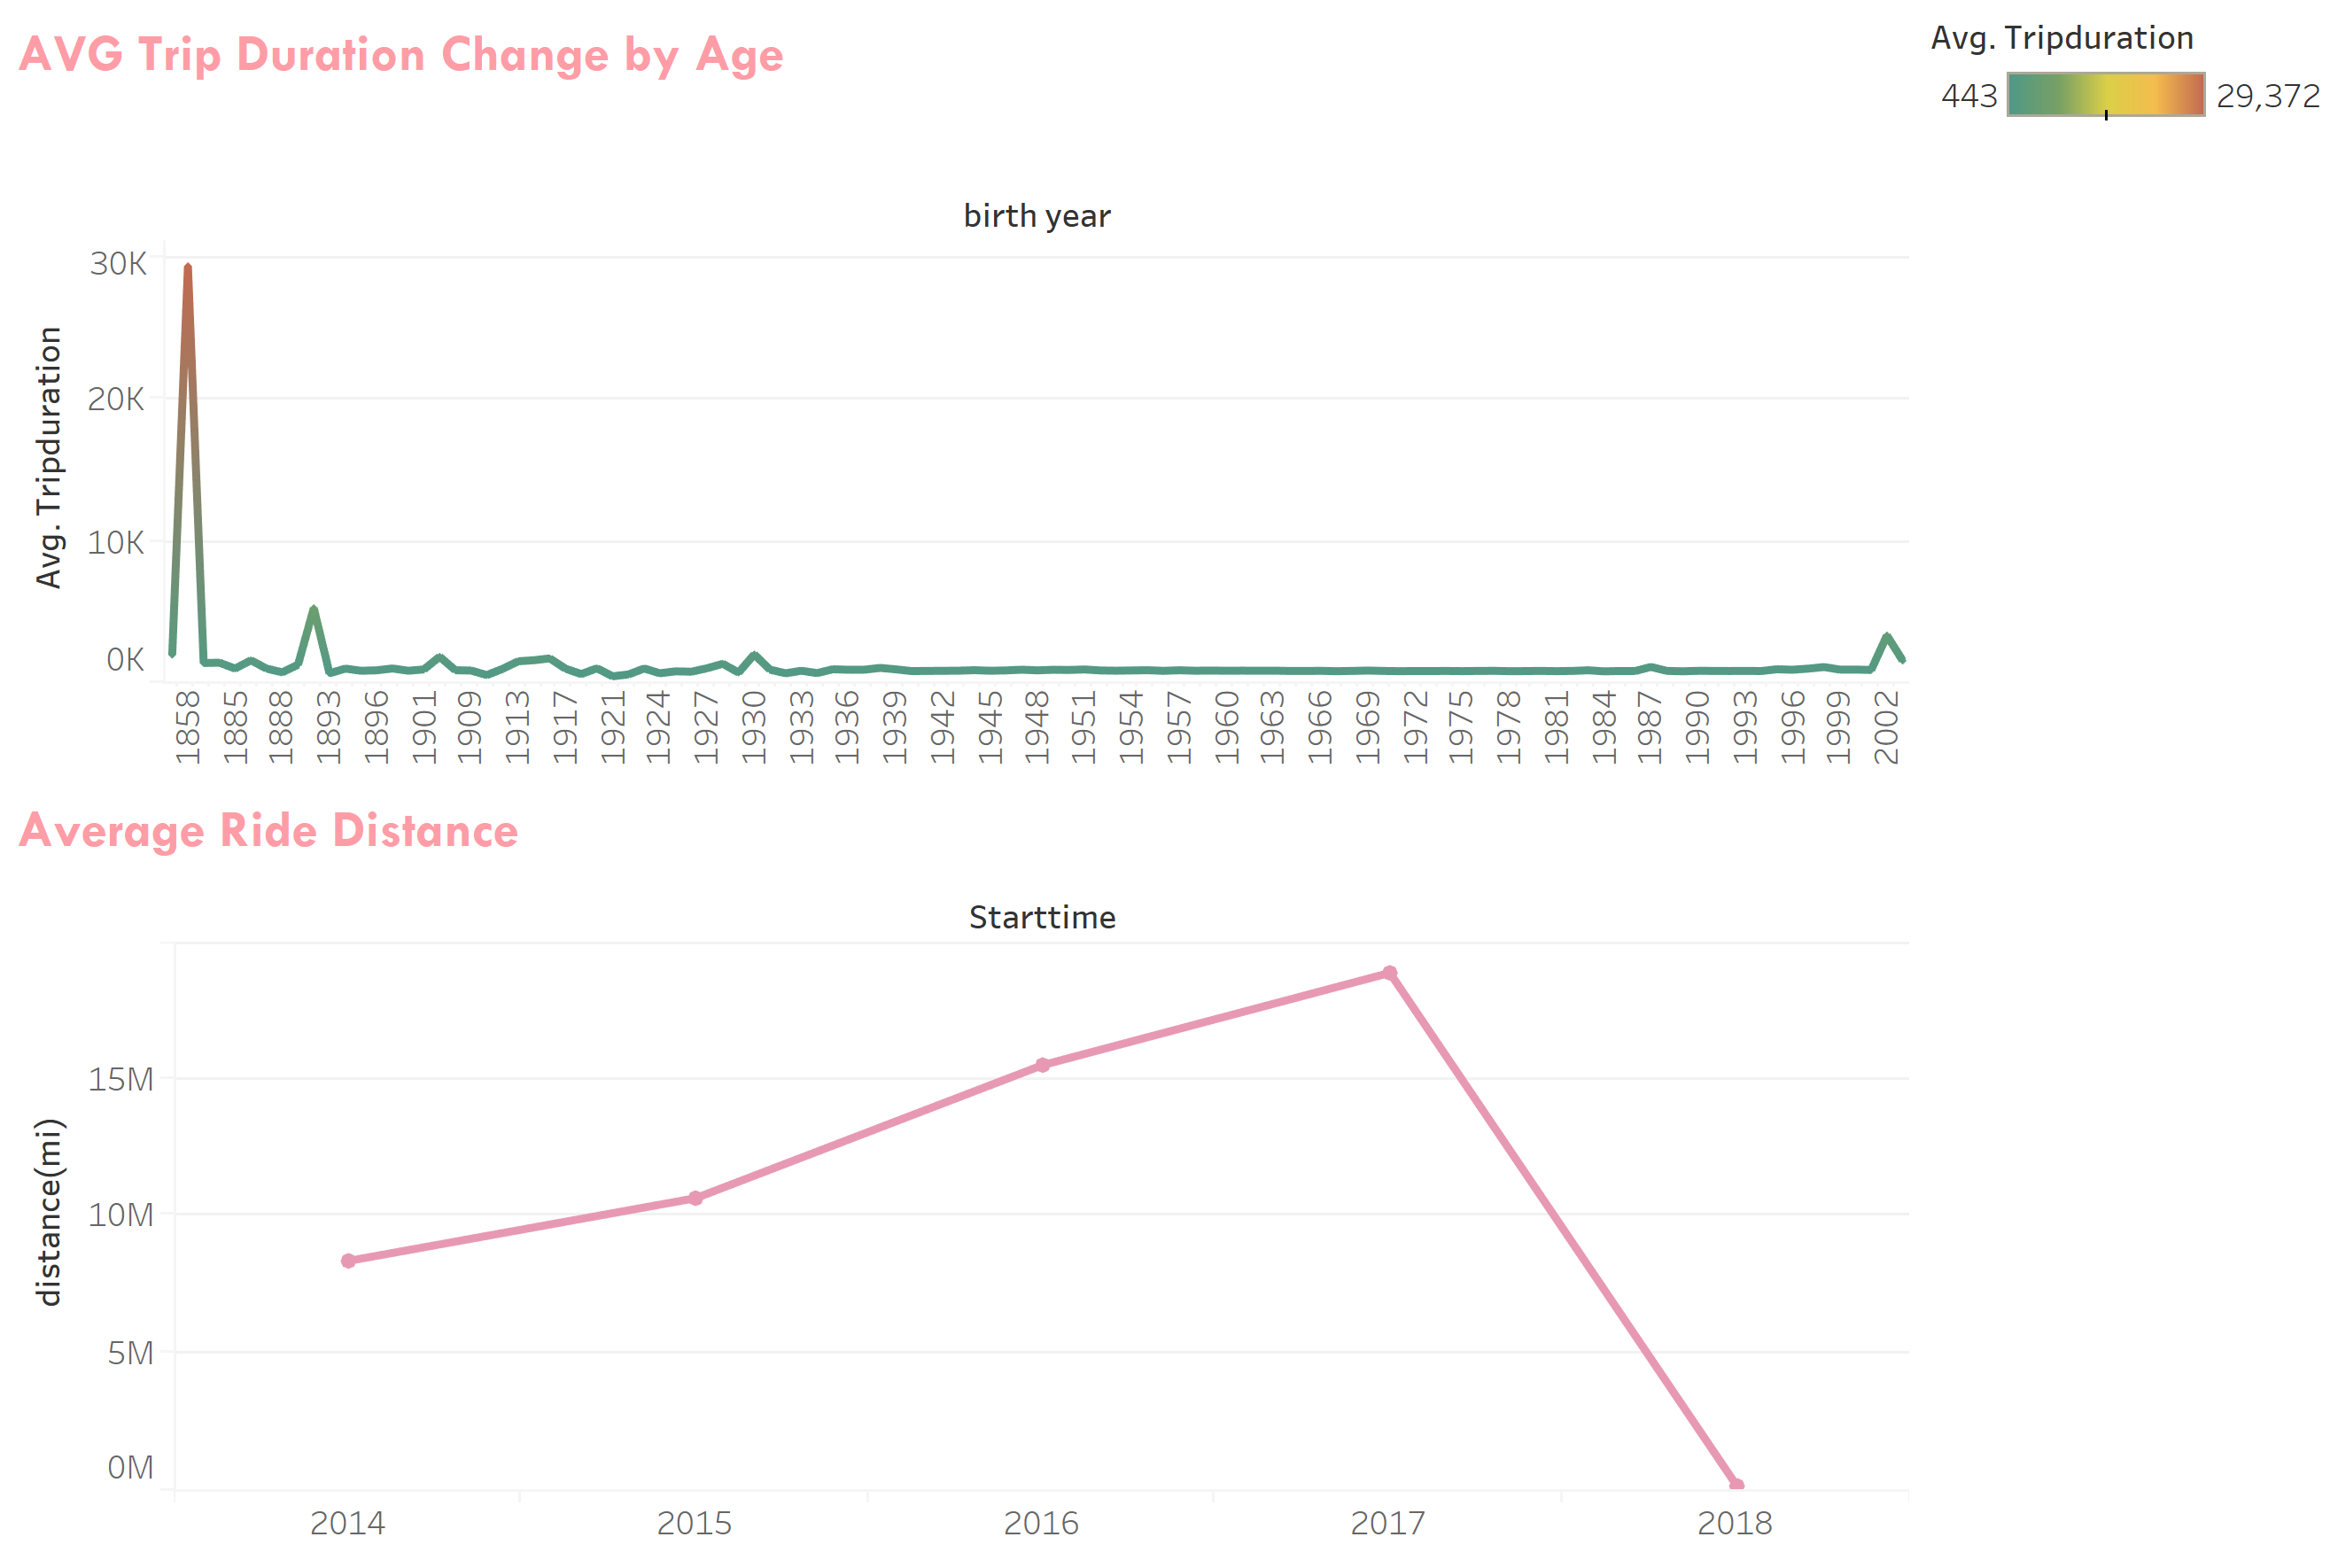

This screenshot's page, from the dashboard's own definition file:
{"tool":"tableau","page":{"name":"Dashboard 3","canvas":[1000,800],"ordinal":2},"visuals":[{"type":"worksheet","title":"Sheet 4","mark":"Area","rows":["bikeid"],"cols":["starttime"],"box":[8,8,824,392]},{"type":"filter","title":"Sheet 4","param":"[federated.0o6bcyj08k7vi61bhyd3708n9wq9].[mn:starttime:ok]","box":[832,8,160,191]},{"type":"filter","title":"Sheet 4","param":"[federated.0o6bcyj08k7vi61bhyd3708n9wq9].[yr:starttime:ok]","box":[832,199,160,146]},{"type":"currpage","title":"Sheet 4","box":[832,345,160,110]},{"type":"worksheet","title":"Sheet 5","mark":"Area","rows":["bikeid"],"cols":["starttime"],"box":[8,400,824,392]},{"type":"filter","title":"Sheet 5","param":"[federated.0o6bcyj08k7vi61bhyd3708n9wq9].[mn:starttime:ok]","box":[832,455,160,191]},{"type":"filter","title":"Sheet 5","param":"[federated.0o6bcyj08k7vi61bhyd3708n9wq9].[yr:starttime:ok]","box":[832,646,160,146]}]}

Visuals, with their boxes on the page's 1000x800 design canvas (x1, y1, x2, y2). These are canvas units, not pixel positions in the 2338x1568 screenshot, which may show the page scaled, cropped or inside an application window:
"Sheet 4" worksheet (Area marks): bbox=(8, 8, 832, 400)
"Sheet 4" filter: bbox=(832, 8, 992, 199)
"Sheet 4" filter: bbox=(832, 199, 992, 345)
"Sheet 4" currpage: bbox=(832, 345, 992, 455)
"Sheet 5" worksheet (Area marks): bbox=(8, 400, 832, 792)
"Sheet 5" filter: bbox=(832, 455, 992, 646)
"Sheet 5" filter: bbox=(832, 646, 992, 792)
